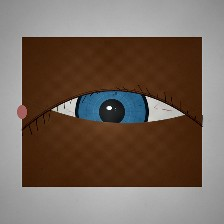pinguecula_lesion: (32, 100, 67, 128)
